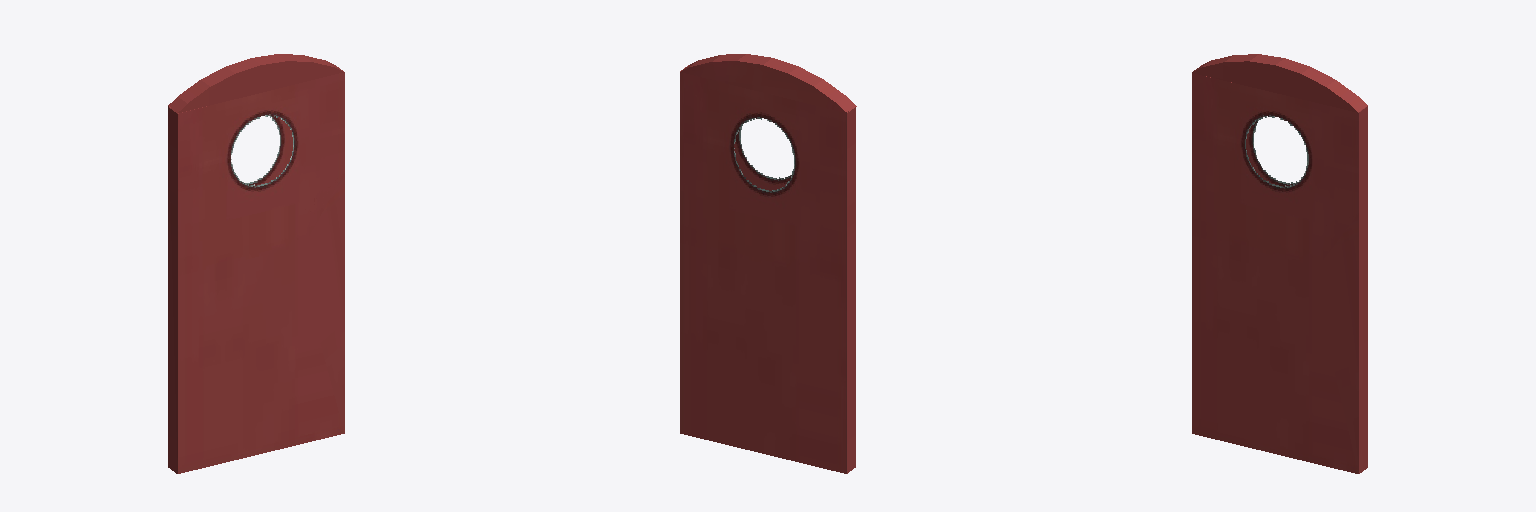
3 renders of one model, left to right at view 1: azimuth 30°, elevation 25°; view 2: azimuth 150°, elevation 25°; view 3: azimuth 330°, elevation 25°, orthographic.
Visible parts, largest first — view 1: Plano_Plano.001; view 2: Plano_Plano.001; view 3: Plano_Plano.001.
Part boxes in pixels (x1,y1,x2,y2): Plano_Plano.001: (168, 54, 344, 473); Plano_Plano.001: (680, 54, 856, 473); Plano_Plano.001: (1192, 54, 1367, 473).
Bounding box in the file's own units: 6.1 × 13.53 × 0.6341.
1 materials, 1 textured.